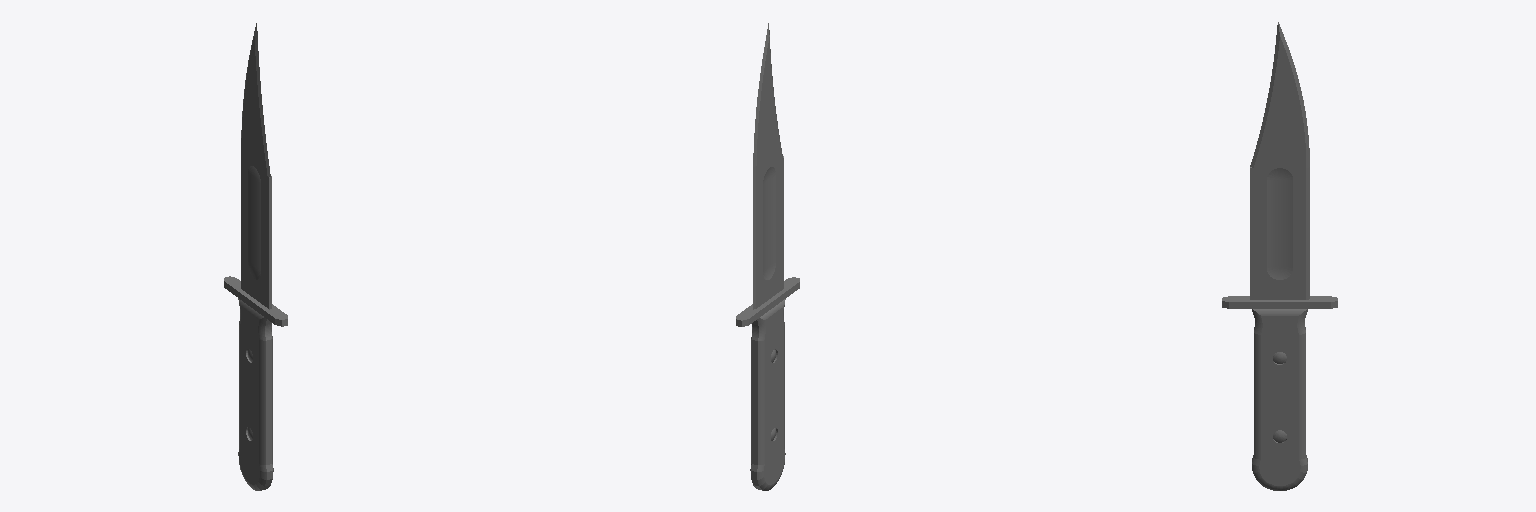
URDF robot description (object):
<?xml version="1.0"?>
<robot name="object">
  <link name="object">
    <visual>
      <origin xyz="0 0 0"/>
      <geometry>
        <mesh
          filename="../../mesh/oakink_virtual/knife_s160.stl" />
      </geometry>
      <material name="mat">
        <color rgba="0.5 0.5 0.5 1"/>
      </material>
    </visual>

    <collision>
      <origin xyz="0 0 0"/>
      <geometry>
        <mesh
          filename="../../mesh/oakink_virtual/knife_s160.stl" />
      </geometry>
    </collision>
  </link>
</robot>

--- Facts derived from the render (not from the file) ---
3 views of the same robot in one strip: view 1: azimuth 30°, elevation 25°; view 2: azimuth 150°, elevation 25°; view 3: azimuth 270°, elevation 25° (orthographic).
Model object with 1 links and 0 joints (none), rooted at object, posed all joints at 0.
Links seen in each view (by area): view 1: object; view 2: object; view 3: object.
Boxes of the visible links, x1,y1,x2,y2 form: object: (224,23,287,490); object: (736,23,799,490); object: (1222,22,1337,490).
Size in the robot's own frame: 0.0067 by 0.0535 by 0.2383 metres.
1 mesh visuals loaded from 1 distinct referenced files (1 binary STL).